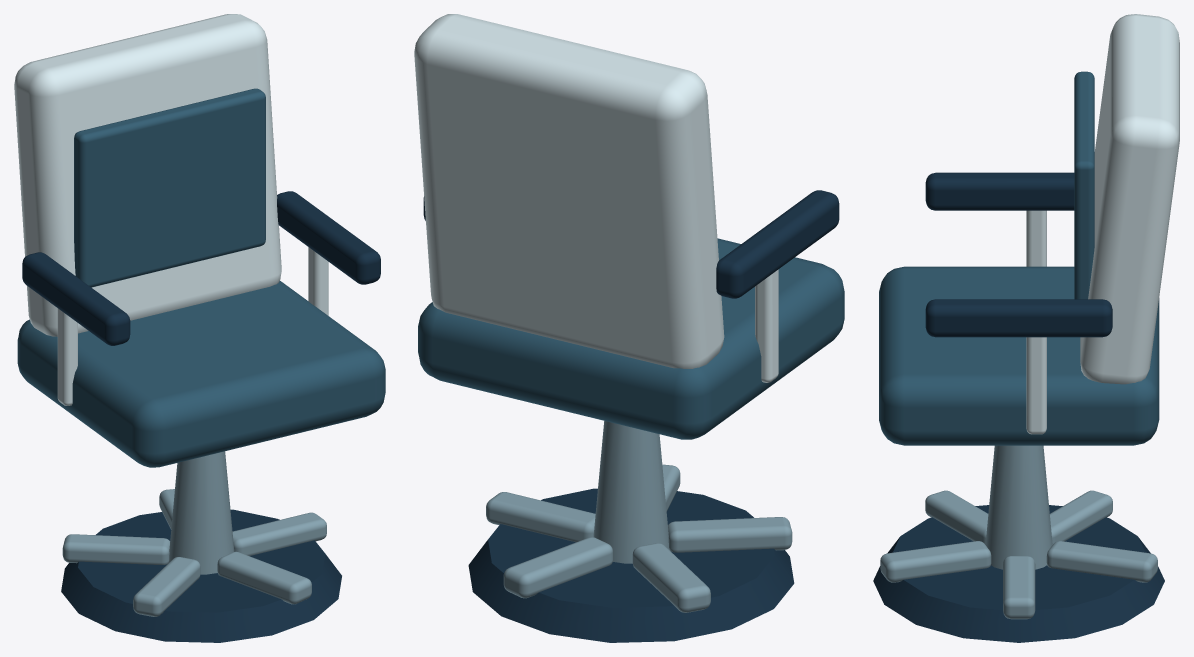
File: chairdesk.glb
The picture shows the model from 3 angles, left to right: view 1: azimuth 30°, elevation 25°; view 2: azimuth 150°, elevation 25°; view 3: azimuth 270°, elevation 25°; orthographic projection. The views are drawn at different scales.
Parts seen in each view (by area): view 1: atelier-cyber-chairdesk; view 2: atelier-cyber-chairdesk; view 3: atelier-cyber-chairdesk.
Boxes of the visible parts, x1,y1,x2,y2 form: atelier-cyber-chairdesk: (14,14,385,642); atelier-cyber-chairdesk: (414,14,844,642); atelier-cyber-chairdesk: (873,14,1179,642).
Bounding box in the file's own units: 0.5755 × 0.9951 × 0.5369.
